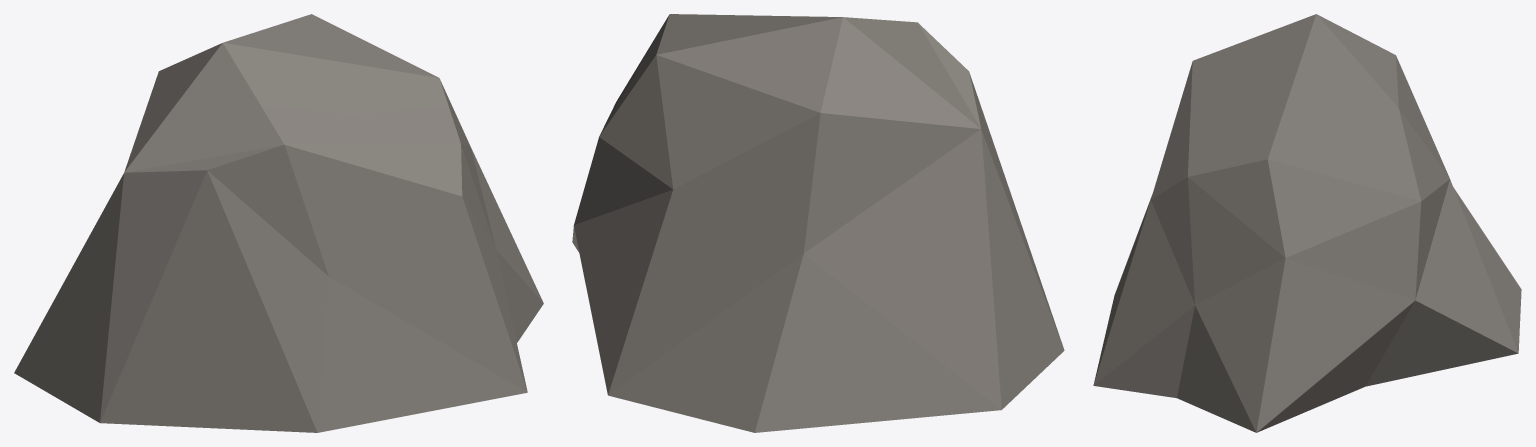
Rendered from obstaculo_desierto_roca.fbx.
3 views of the same model, side by side, from view 1: azimuth 30°, elevation 25°; view 2: azimuth 150°, elevation 25°; view 3: azimuth 270°, elevation 25° (orthographic). The views are drawn at different scales.
Parts seen in each view (by area): view 1: Roca; view 2: Roca; view 3: Roca.
Boxes of the visible parts, x1=… form: Roca: x1=14, y1=14, x2=543, y2=432; Roca: x1=572, y1=14, x2=1064, y2=432; Roca: x1=1093, y1=14, x2=1521, y2=432.
Size of the model in its own units: 32.96 by 20.69 by 27.94.
1 material, 1 textured.
